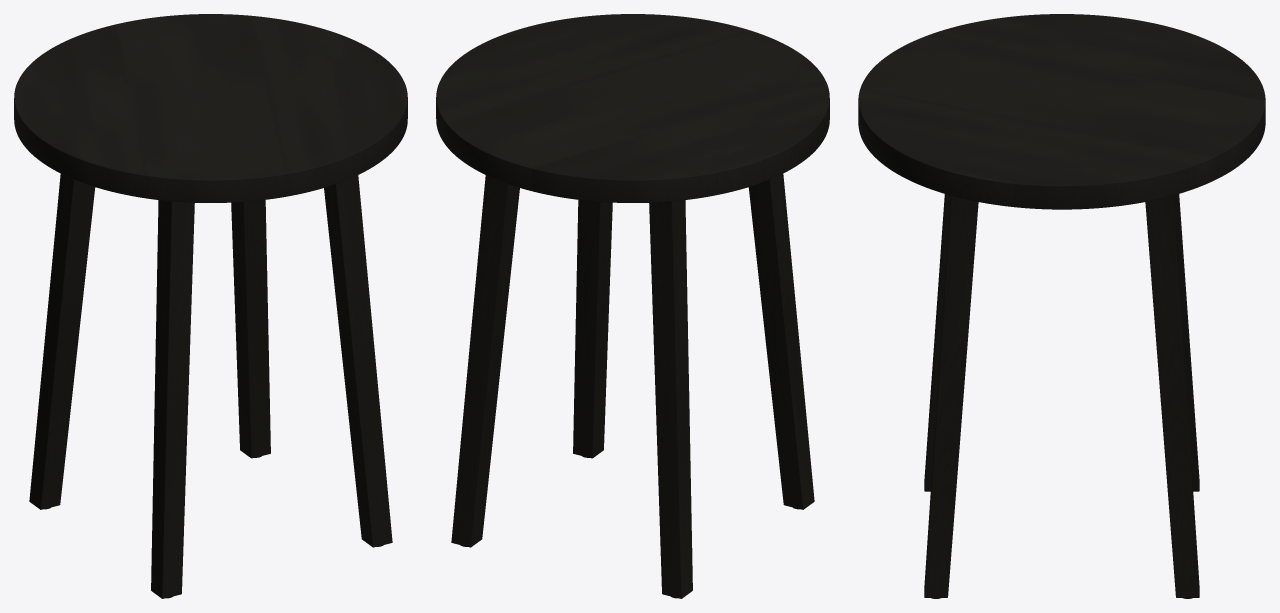
The model's file is small_black_side_table.glb.
The picture shows the model from 3 angles, left to right: view 1: azimuth 30°, elevation 25°; view 2: azimuth 150°, elevation 25°; view 3: azimuth 270°, elevation 25°; orthographic projection. The views are drawn at different scales.
Visible parts, largest first — view 1: Round tabletop | diameter 55 cm, Splayed square wood leg 1, Splayed square wood leg 3, Splayed square wood leg 2, Splayed square wood leg 4; view 2: Round tabletop | diameter 55 cm, Splayed square wood leg 2, Splayed square wood leg 4, Splayed square wood leg 1, Splayed square wood leg 3; view 3: Round tabletop | diameter 55 cm, Splayed square wood leg 3, Splayed square wood leg 4, Splayed square wood leg 1, Splayed square wood leg 2.
Part boxes in pixels (x1,y1,x2,y2): Round tabletop | diameter 55 cm: (14, 14, 407, 202); Splayed square wood leg 1: (151, 200, 194, 598); Splayed square wood leg 3: (324, 175, 392, 547); Splayed square wood leg 2: (29, 174, 95, 509); Splayed square wood leg 4: (231, 200, 270, 458); Round tabletop | diameter 55 cm: (436, 14, 829, 202); Splayed square wood leg 2: (649, 200, 692, 598); Splayed square wood leg 4: (451, 175, 519, 547); Splayed square wood leg 1: (748, 174, 814, 509); Splayed square wood leg 3: (573, 200, 612, 458); Round tabletop | diameter 55 cm: (858, 14, 1265, 209); Splayed square wood leg 3: (924, 195, 978, 597); Splayed square wood leg 4: (1145, 195, 1199, 597); Splayed square wood leg 1: (924, 194, 950, 491); Splayed square wood leg 2: (1173, 194, 1199, 491).
Bounding box in the file's own units: 0.4 × 0.48 × 0.4.
5 materials, 3 textured.
